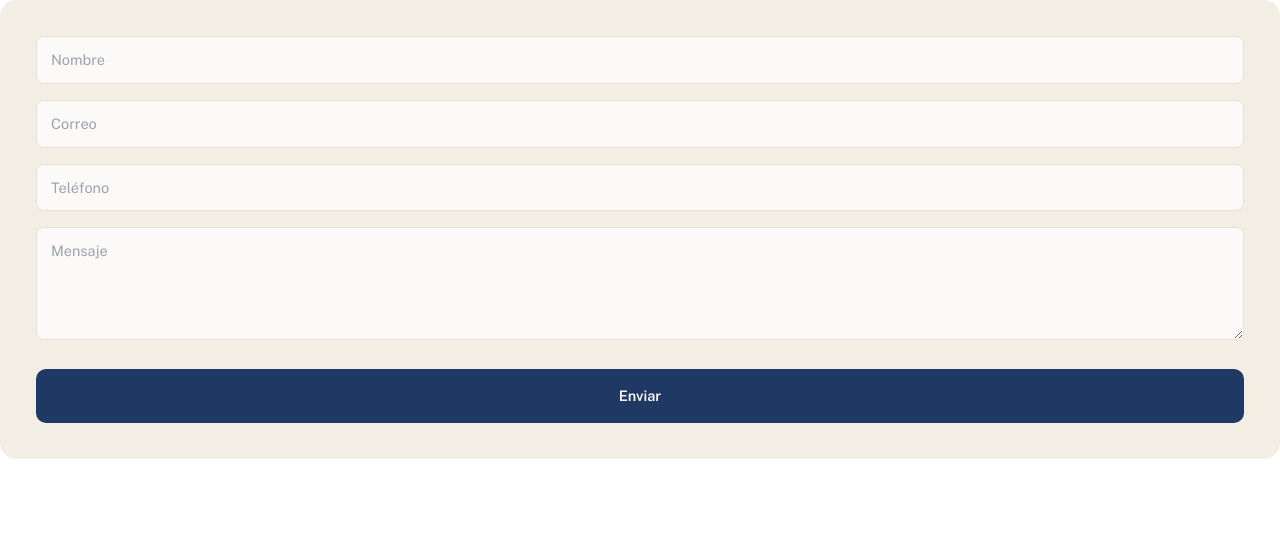
Test case: ContactForm › shows validation errors for invalid input
Type "A" into the field with placeholder "Nombre" at (640, 60), box [36,36,1244,84]
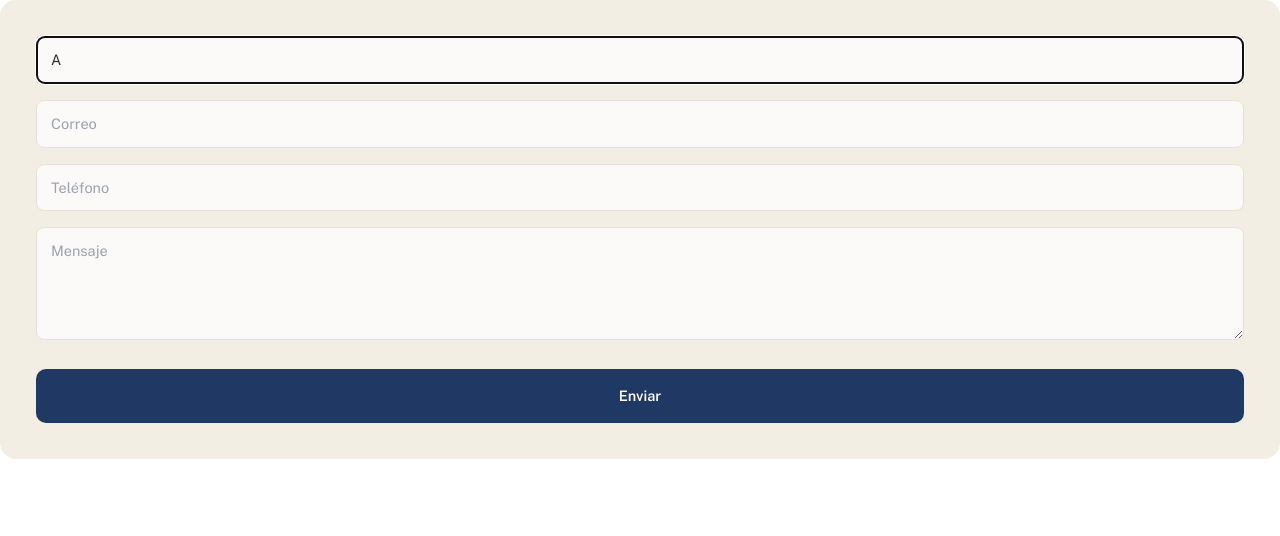
Type "short" into the text box with placeholder "Mensaje" at (640, 284), box [36,227,1244,340]
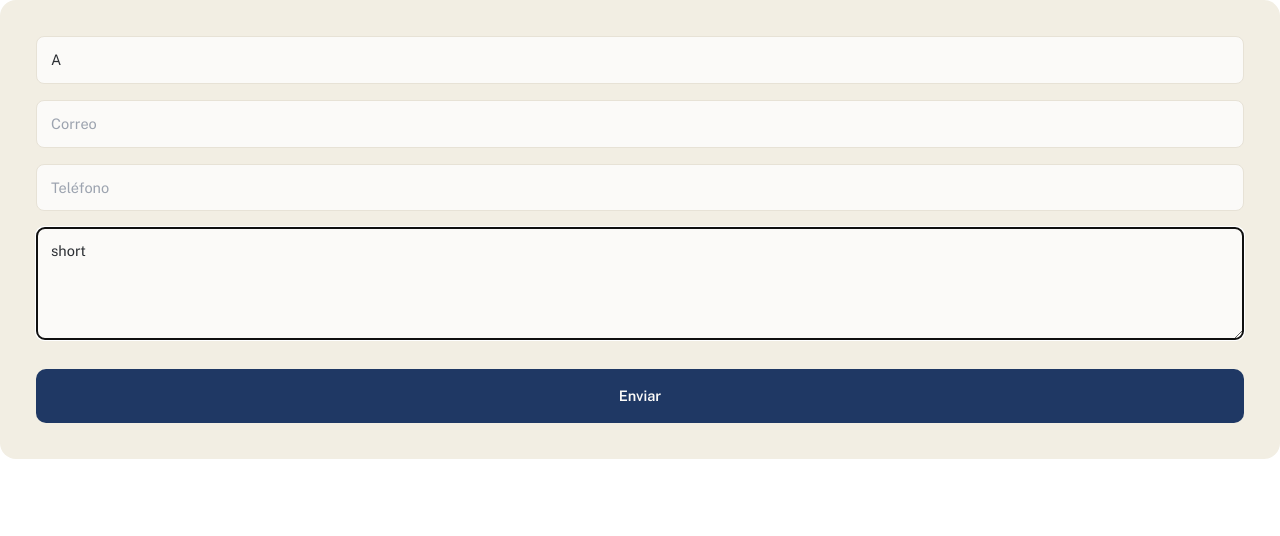
Click the button "Enviar" at (640, 396), box [36,369,1244,423]
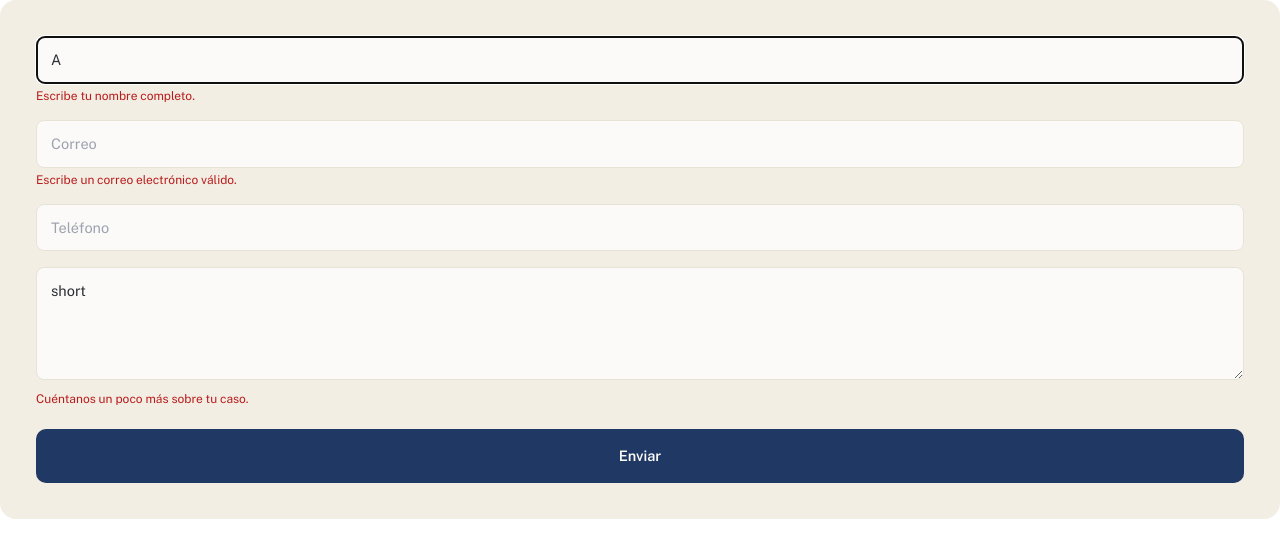
Now the text "Escribe tu nombre completo." is shown, box [36,89,195,103]
Now the text "Escribe un correo electrónico válido." is shown, box [36,172,237,186]
Now the text "Cuéntanos un poco más sobre tu caso." is shown, box [36,392,248,406]
